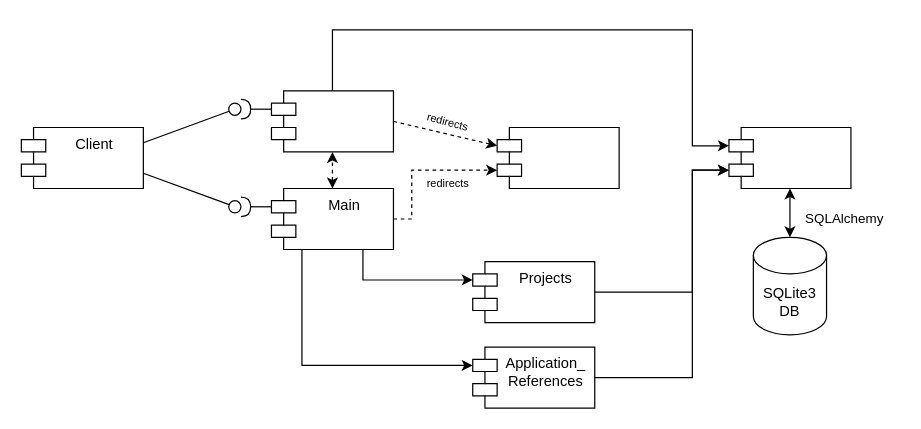
This 921x429 diagram has some shape labels left out. Each missing label, with the box of its shape:
Auth: (270, 90, 393, 152)
Error Handlers: (496, 126, 619, 188)
Model: (728, 126, 851, 188)
